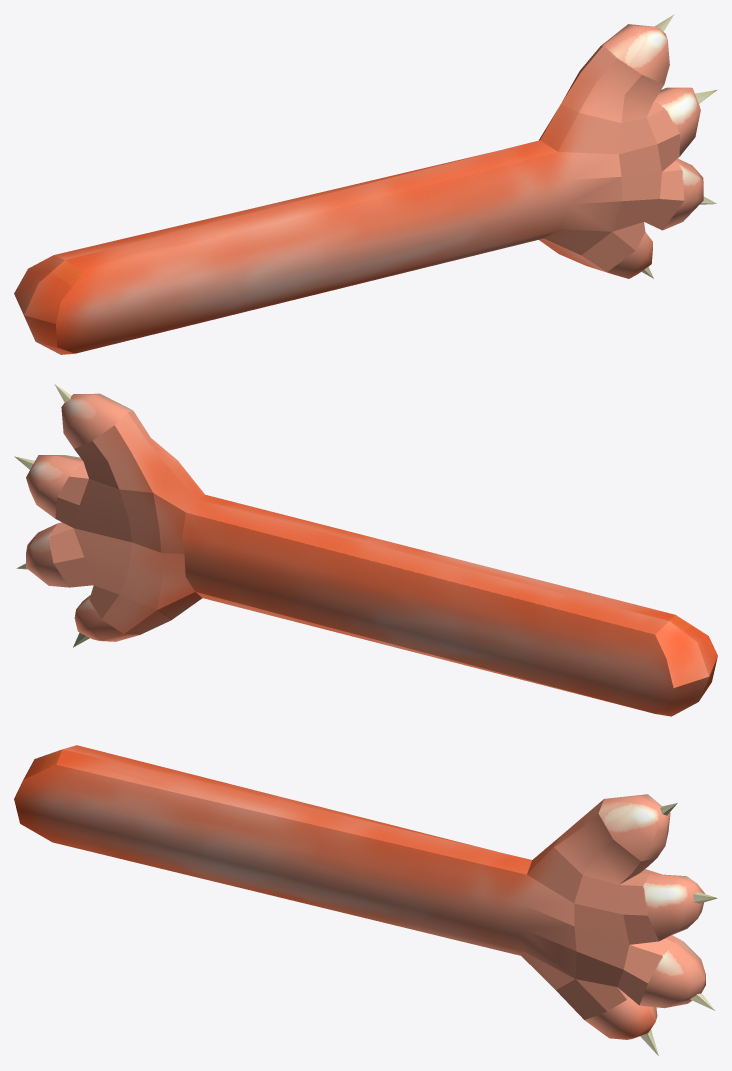
File: zhuazi.fbx
3 views of the same model, one above another, from view 1: azimuth 30°, elevation 25°; view 2: azimuth 150°, elevation 25°; view 3: azimuth 330°, elevation 25° (orthographic).
Parts seen in each view (by area): view 1: zhuzi; view 2: zhuzi; view 3: zhuzi.
Boxes of the visible parts, box(x1,y1,x2,y2) form: zhuzi: box(14, 14, 717, 354); zhuzi: box(14, 384, 717, 716); zhuzi: box(14, 745, 717, 1055).
Bounding box in the file's own units: 1709 × 612 × 191.
1 material, 1 textured.
